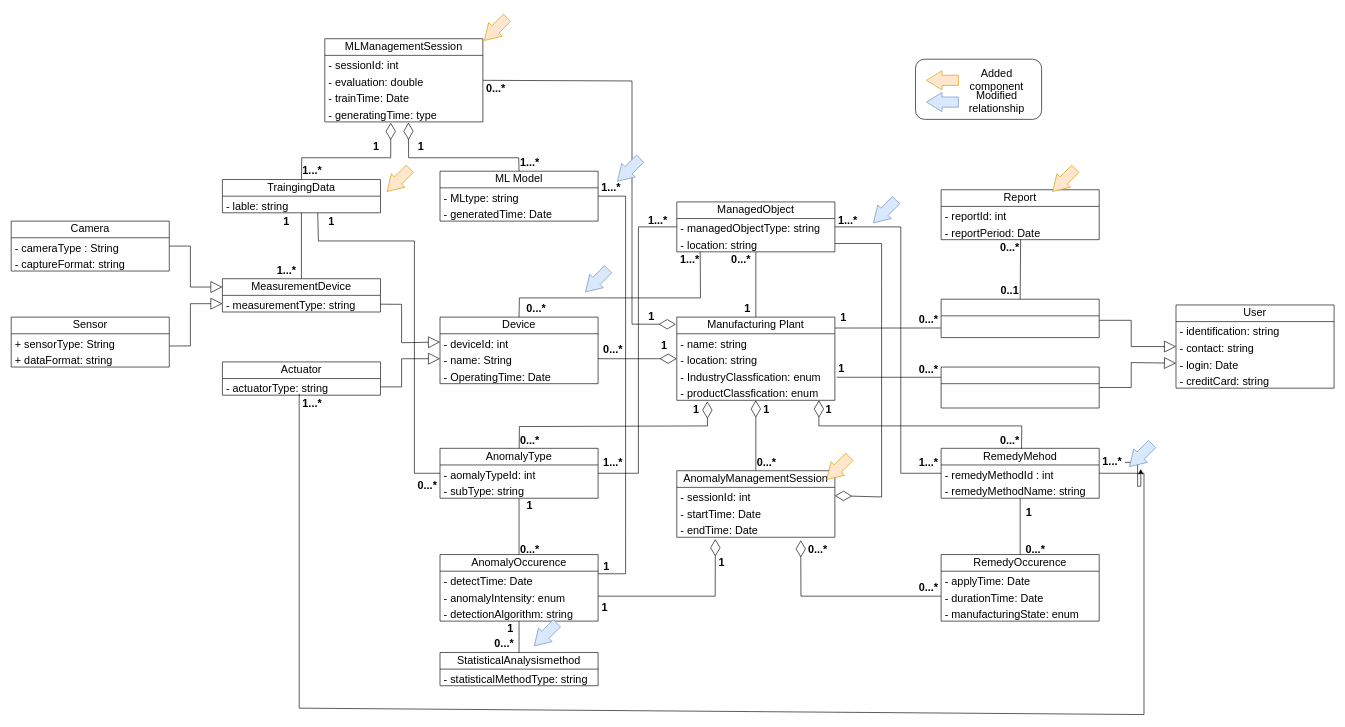
Image size: 1345x727. Some labels were removed from this diagram. The shapes that lost their labels are listed below. From the top down, each one's centre as x and y in pixels, then its label:
the point at 1019,318: Manager
the point at 1019,387: Worker
